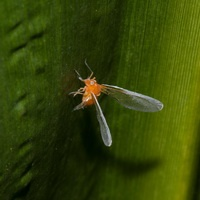insect: (69, 59, 163, 146)
